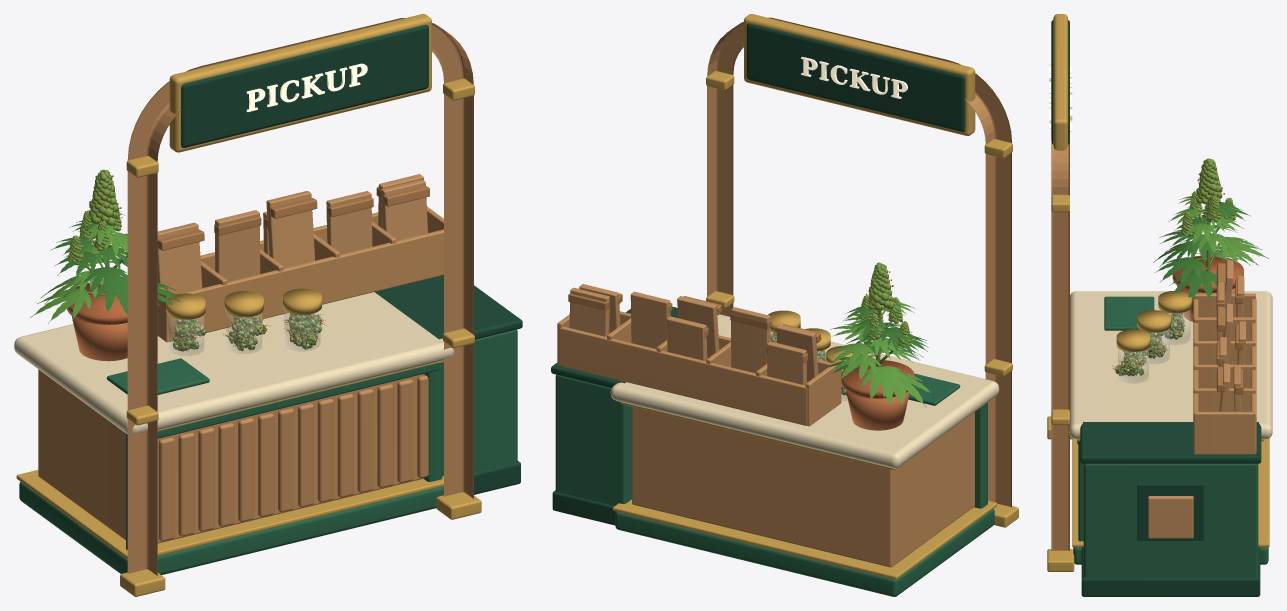
File: pickup_desk_tier1.glb
3 renders of one model, left to right at view 1: azimuth 30°, elevation 25°; view 2: azimuth 150°, elevation 25°; view 3: azimuth 270°, elevation 25°, orthographic. The views are drawn at different scales.
Visible parts, largest first — view 1: Arch, Top, Body, Sign, CrateSide0.12, Plinth, Cabinet, PlinthBrass, SignBorder, CabinetLip, Bag2, Bag1 (+35 smaller); view 2: Body, Arch, Top, Sign, CrateSide0.40, Cabinet, Plinth, PlinthBrass, SignBorder, Bag1, Bag3, PlantPot (+16 smaller); view 3: Cabinet, Top, Arch, CabinetLip, CabinetKick, CrateDiv5, SignBorder, PlinthBrass, EndBox, EndRecess, Mat, CrateDiv4 (+31 smaller).
Boxes of the visible parts, x1=… form: Arch: x1=127, y1=18, x2=473, y2=575; Top: x1=14, y1=292, x2=453, y2=434; Body: x1=38, y1=369, x2=424, y2=543; Sign: x1=181, y1=24, x2=428, y2=147; CrateSide0.12: x1=169, y1=229, x2=443, y2=341; Plinth: x1=19, y1=482, x2=443, y2=574; Cabinet: x1=442, y1=329, x2=517, y2=475; PlinthBrass: x1=16, y1=470, x2=443, y2=559; SignBorder: x1=169, y1=14, x2=431, y2=152; CabinetLip: x1=375, y1=275, x2=522, y2=339; Bag2: x1=266, y1=191, x2=315, y2=268; Bag1: x1=215, y1=210, x2=260, y2=281; Body: x1=632, y1=406, x2=974, y2=567; Arch: x1=707, y1=17, x2=1011, y2=507; Top: x1=610, y1=314, x2=999, y2=468; Sign: x1=746, y1=23, x2=965, y2=131; CrateSide0.40: x1=559, y1=326, x2=807, y2=425; Cabinet: x1=555, y1=374, x2=631, y2=505; Plinth: x1=615, y1=508, x2=994, y2=596; PlinthBrass: x1=612, y1=499, x2=997, y2=579; SignBorder: x1=744, y1=14, x2=975, y2=135; Bag1: x1=731, y1=307, x2=770, y2=373; Bag3: x1=630, y1=291, x2=670, y2=348; PlantPot: x1=846, y1=391, x2=909, y2=430; Cabinet: x1=1083, y1=463, x2=1258, y2=578; Top: x1=1069, y1=291, x2=1272, y2=439; Arch: x1=1051, y1=20, x2=1069, y2=550; CabinetLip: x1=1080, y1=422, x2=1261, y2=463; CabinetKick: x1=1081, y1=547, x2=1260, y2=596; CrateDiv5: x1=1193, y1=411, x2=1255, y2=454; SignBorder: x1=1053, y1=14, x2=1067, y2=150; PlinthBrass: x1=1072, y1=438, x2=1269, y2=547; EndBox: x1=1148, y1=496, x2=1193, y2=538; EndRecess: x1=1137, y1=484, x2=1203, y2=540; Mat: x1=1104, y1=296, x2=1154, y2=330; CrateDiv4: x1=1193, y1=388, x2=1255, y2=411.
Bounding box in the file's own units: 1.96 × 2.3 × 1.09.
